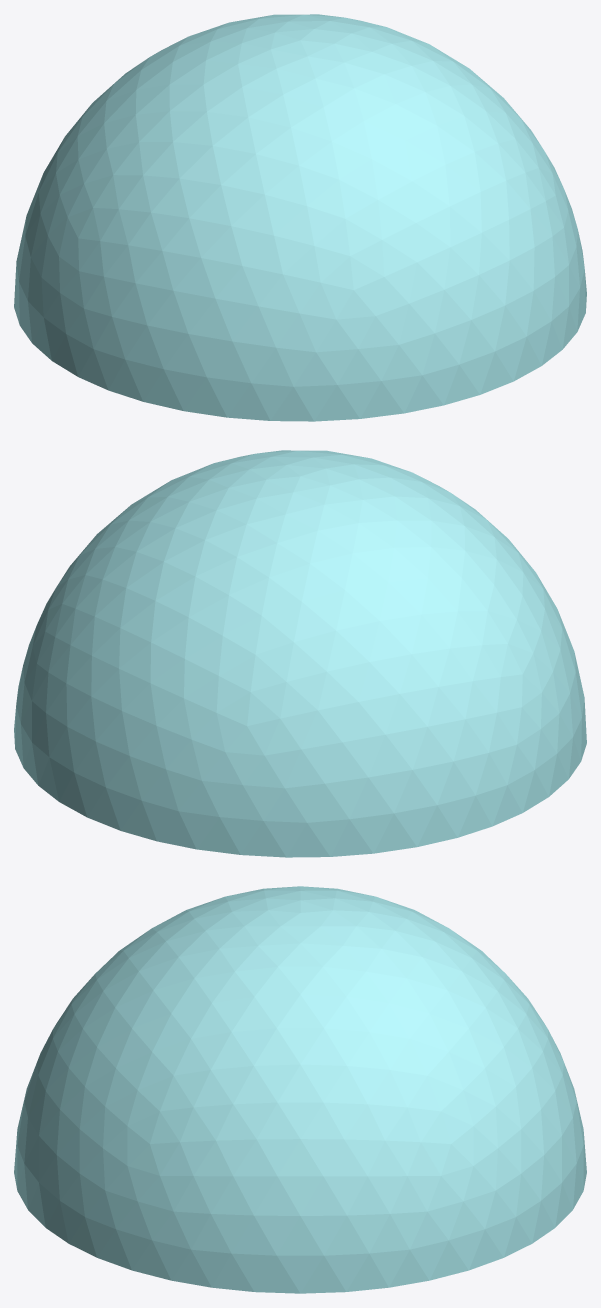
The model's file is Half_Icosphere_131.glb.
3 views of the same model, one above another, from view 1: azimuth 30°, elevation 25°; view 2: azimuth 150°, elevation 25°; view 3: azimuth 270°, elevation 25° (orthographic).
Visible parts, largest first — view 1: Half_Icosphere_131; view 2: Half_Icosphere_131; view 3: Half_Icosphere_131.
Boxes of the visible parts, <box> form: Half_Icosphere_131: <box>14,14,586,421</box>; Half_Icosphere_131: <box>14,450,586,857</box>; Half_Icosphere_131: <box>14,886,586,1293</box>.
Bounding box in the file's own units: 2 × 1 × 2.
